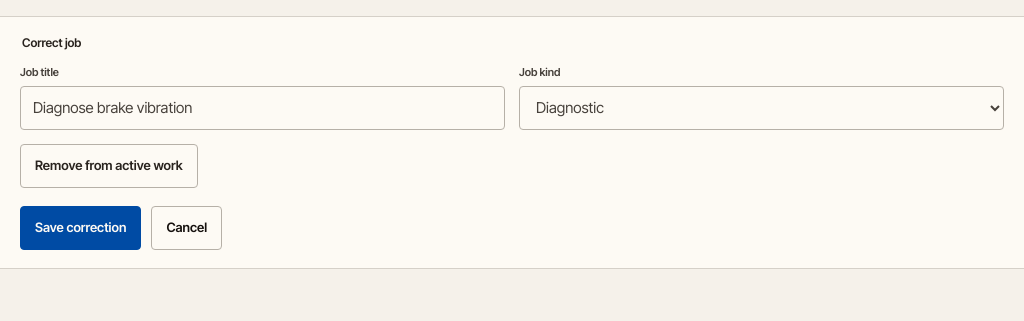
Test case: TicketCorrectionWorkspace › refuses final-active-job removal from fresh truth before submission
Expected: the field labelled "Job title" is shown, [20, 86, 505, 130]
Click the button "Remove from active work": (109, 166) [20, 144, 198, 188]
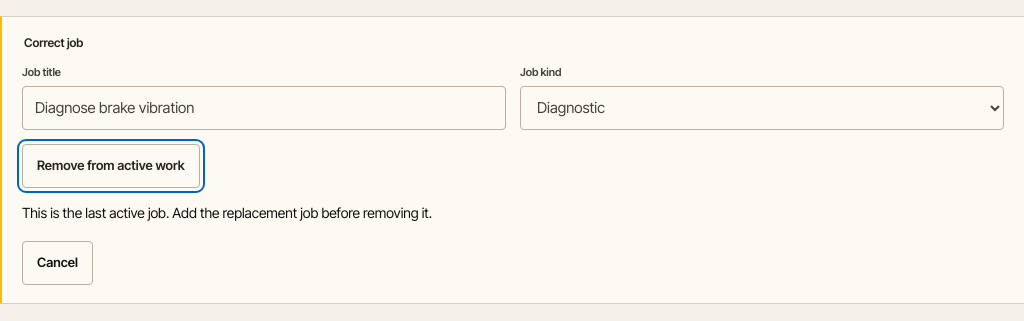
Expected: the message reads "This is the last active job. Add the replacement job before removing it.", [22, 204, 432, 221]
Expected: the button "Save correction" is gone
